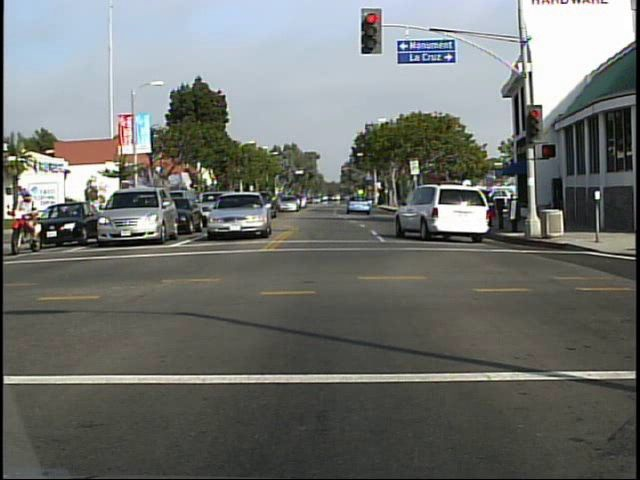person: (7, 185, 43, 254)
